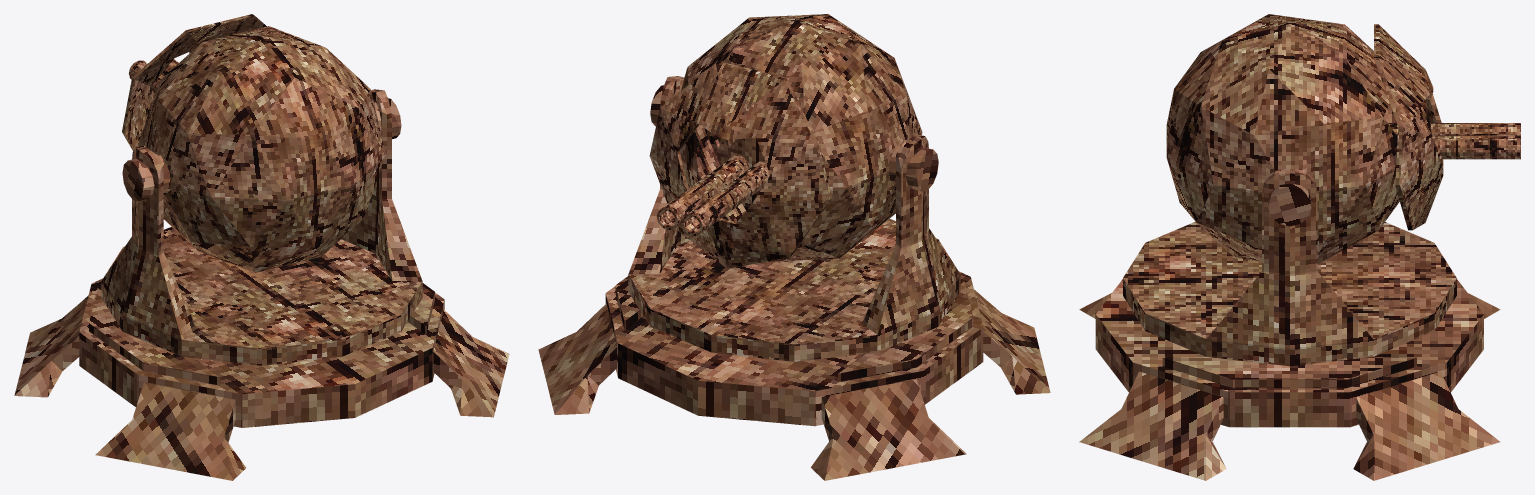
File: turret.obj
3 renders of one model, left to right at view 1: azimuth 30°, elevation 25°; view 2: azimuth 150°, elevation 25°; view 3: azimuth 270°, elevation 25°, orthographic. The views are drawn at different scales.
Parts seen in each view (by area): view 1: Turret; view 2: Turret; view 3: Turret.
Part boxes in pixels (<box>): Turret: <box>14,14,509,480</box>; Turret: <box>538,14,1050,480</box>; Turret: <box>1079,14,1520,480</box>.
Size of the model in its own units: 2.56 by 2 by 2.27.
Materials: 1 (1 with a texture image).
